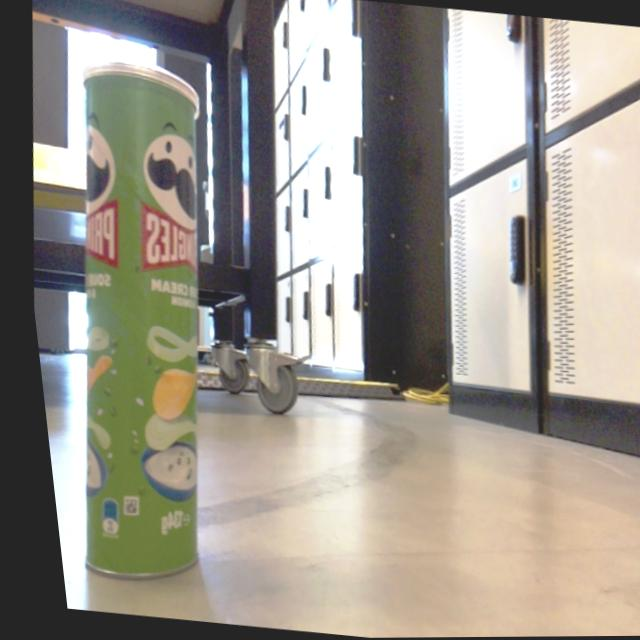greenpringles: (3, 32, 261, 610)
